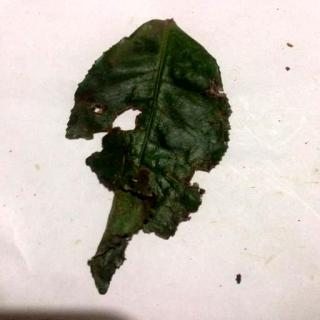Red Leaf Spot: (69, 21, 232, 295)
